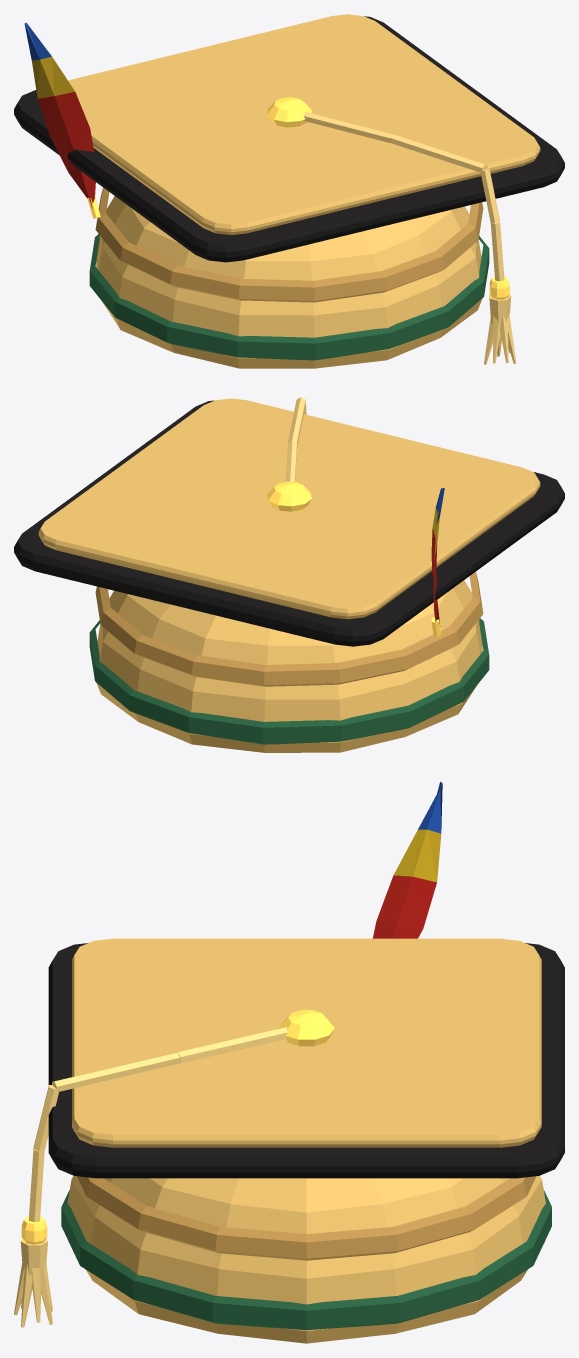
The model's file is birrete-academico-unal.glb.
The picture shows the model from 3 angles, top to bottom: view 1: azimuth 30°, elevation 25°; view 2: azimuth 150°, elevation 25°; view 3: azimuth 270°, elevation 25°; orthographic projection. The views are drawn at different scales.
Visible parts, largest first — view 1: birrete-academico-unal; view 2: birrete-academico-unal; view 3: birrete-academico-unal.
Part boxes in pixels (x1,y1,x2,y2): birrete-academico-unal: (14, 14, 564, 368); birrete-academico-unal: (14, 397, 564, 752); birrete-academico-unal: (14, 782, 564, 1343).
Bounding box in the file's own units: 0.4719 × 0.335 × 0.4694.
